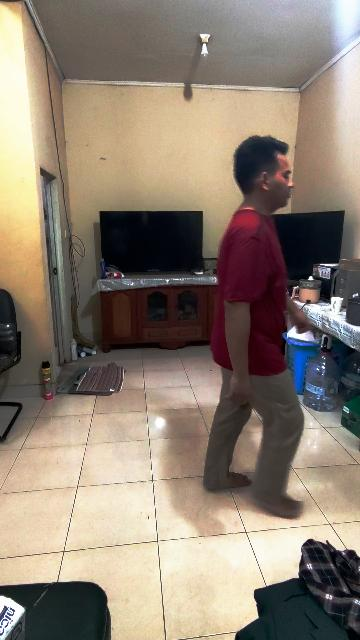berjalan: (194, 135, 308, 523)
